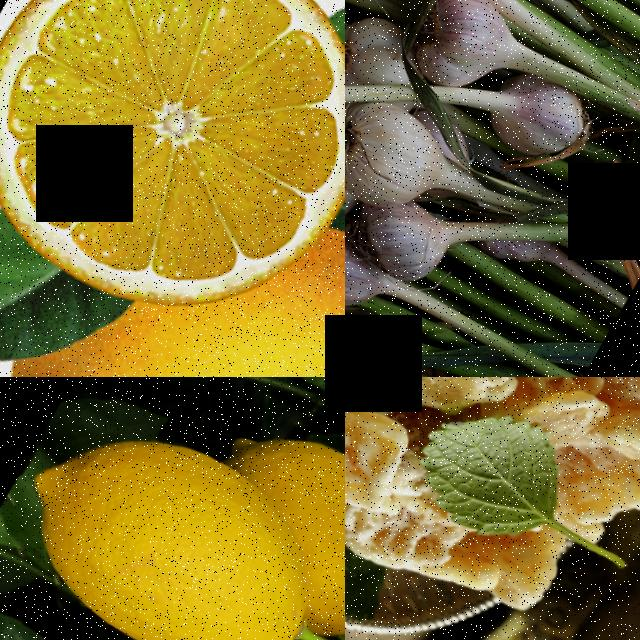garlic: (345, 88, 461, 223), (400, 0, 531, 108), (480, 69, 605, 179), (358, 190, 467, 289), (345, 224, 405, 328)
lemon: (0, 0, 345, 340), (0, 400, 341, 640), (143, 226, 345, 377)
